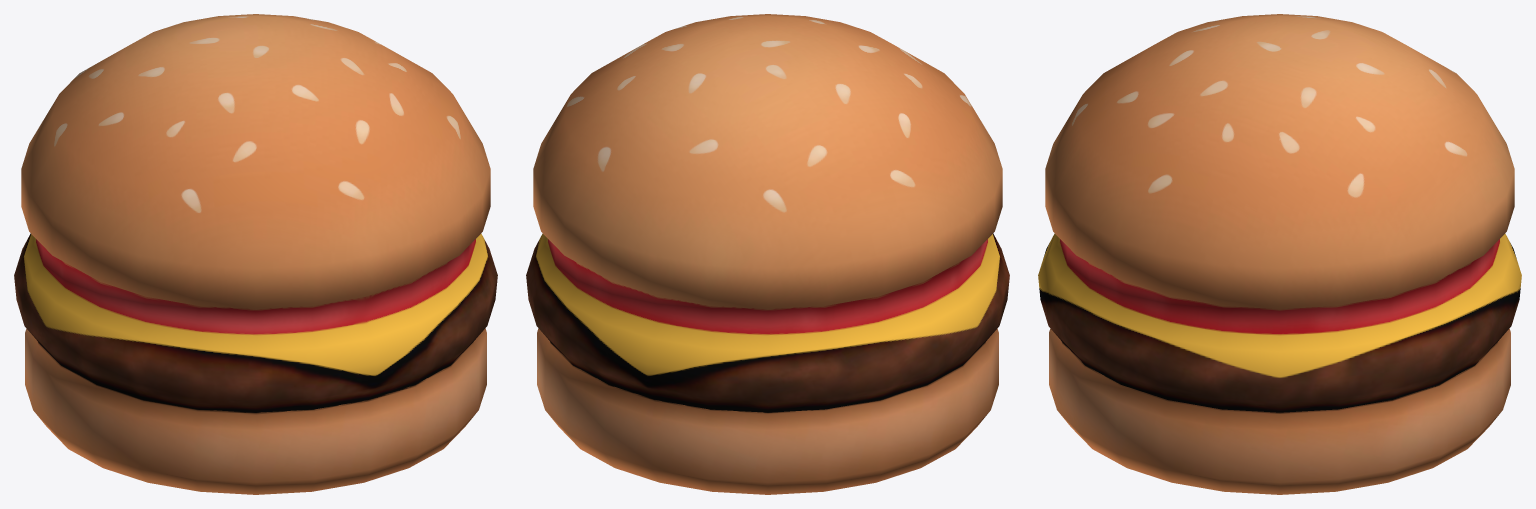
File: Burger.fbx
3 renders of one model, left to right at view 1: azimuth 30°, elevation 25°; view 2: azimuth 150°, elevation 25°; view 3: azimuth 270°, elevation 25°, orthographic.
Parts seen in each view (by area): view 1: Burger; view 2: Burger; view 3: Burger.
Boxes of the visible parts, <box> form: Burger: <box>14,14,497,494</box>; Burger: <box>526,14,1009,494</box>; Burger: <box>1038,14,1521,494</box>.
Bounding box in the file's own units: 97.65 × 79.32 × 97.65.
